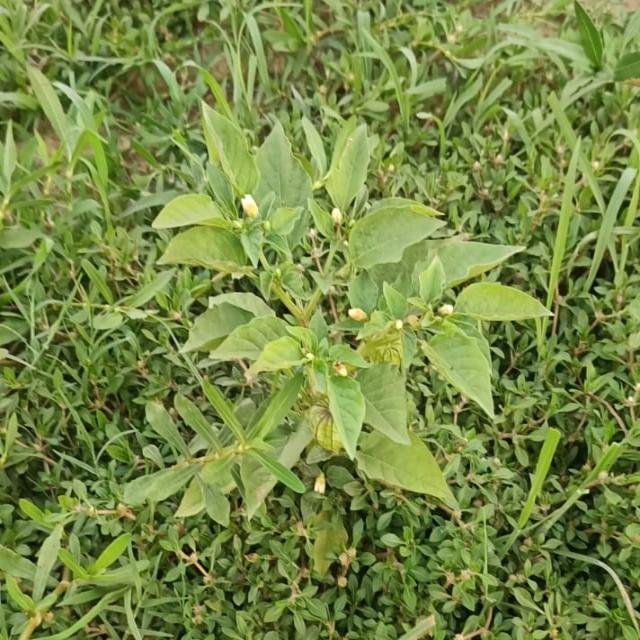weed: (124, 102, 554, 590)
